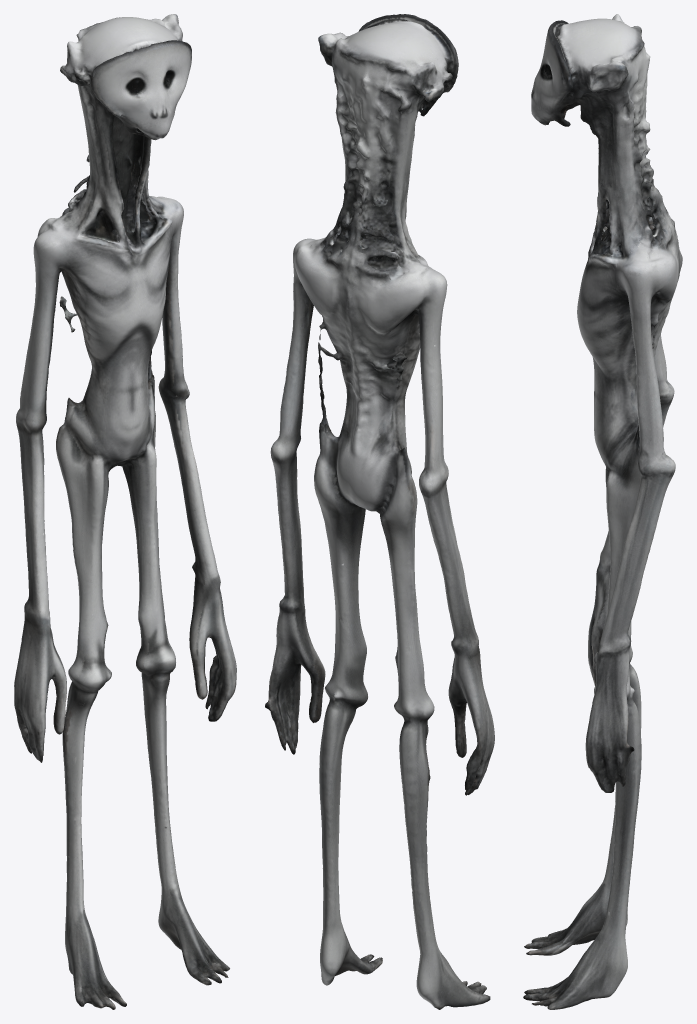
The model's file is Meshy_AI_Skeletal_Sentinel_0514153136_texture.fbx.
3 views of the same model, side by side, from view 1: azimuth 30°, elevation 25°; view 2: azimuth 150°, elevation 25°; view 3: azimuth 270°, elevation 25° (orthographic). The views are drawn at different scales.
Visible parts, largest first — view 1: Mesh_0; view 2: Mesh_0; view 3: Mesh_0.
Part boxes in pixels (left/top/right/bottom): Mesh_0: left=14, top=14, right=236, bottom=1009; Mesh_0: left=265, top=14, right=494, bottom=1009; Mesh_0: left=523, top=14, right=682, bottom=1009.
Bounding box in the file's own units: 46.11 × 200 × 30.47.
1 material, 1 textured.
